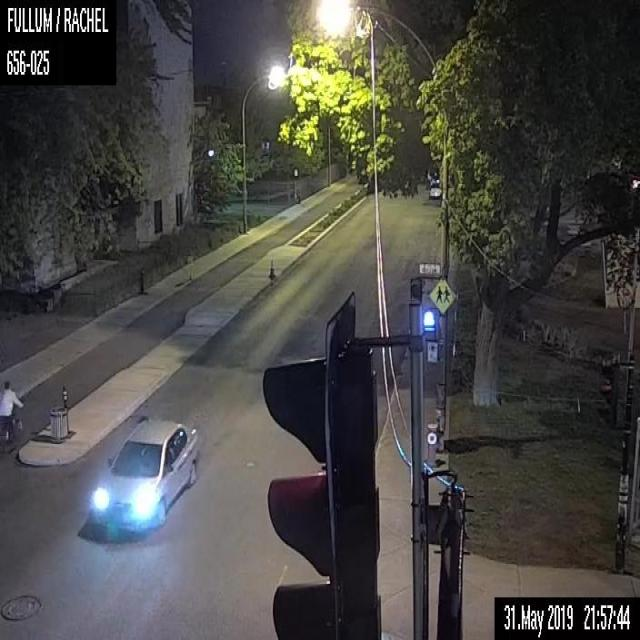construction: (268, 258, 275, 277)
cyclist: (0, 380, 24, 448)
vehicle: (92, 418, 198, 534), (428, 179, 441, 198)
